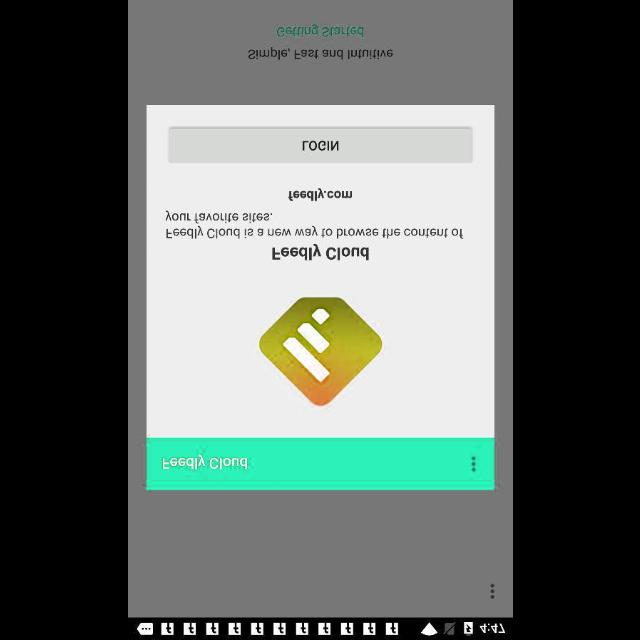icon: (470, 454, 476, 472)
image: (258, 296, 382, 406)
panel: (146, 104, 494, 490)
text: (165, 210, 463, 240), (248, 48, 392, 61), (271, 243, 369, 260), (162, 454, 246, 470), (276, 24, 364, 38), (288, 188, 352, 202)
textbutton: (168, 127, 472, 163)
uppertaskbar: (128, 617, 512, 639)
